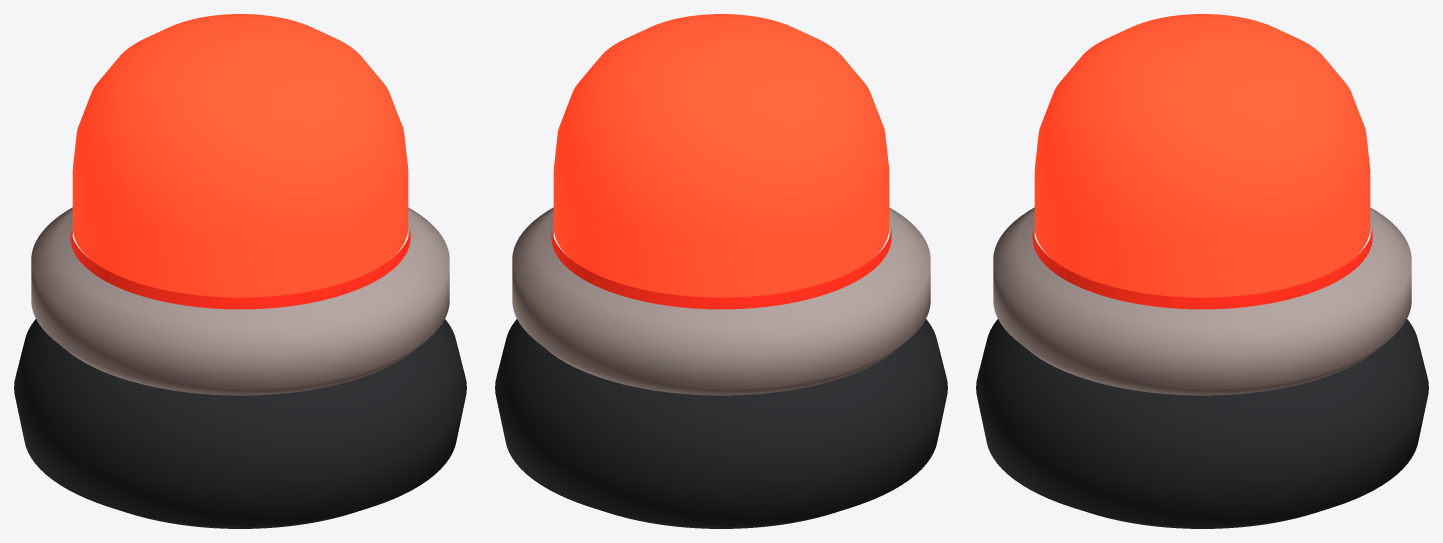
File: BigRedButtonGlowLevel06.glb
The picture shows the model from 3 angles, left to right: view 1: azimuth 30°, elevation 25°; view 2: azimuth 150°, elevation 25°; view 3: azimuth 270°, elevation 25°; orthographic projection.
Parts seen in each view (by area): view 1: button, button_base, metal_bezel, cap_side_shadow; view 2: button, button_base, metal_bezel, cap_side_shadow; view 3: button, button_base, metal_bezel, cap_side_shadow.
Boxes of the visible parts, bbox=[...] form: button: bbox=[72, 14, 408, 297]; button_base: bbox=[14, 319, 466, 528]; metal_bezel: bbox=[31, 207, 449, 395]; cap_side_shadow: bbox=[70, 228, 410, 309]; button: bbox=[553, 14, 889, 297]; button_base: bbox=[495, 319, 947, 528]; metal_bezel: bbox=[512, 207, 930, 395]; cap_side_shadow: bbox=[551, 228, 891, 309]; button: bbox=[1034, 14, 1370, 297]; button_base: bbox=[976, 319, 1428, 528]; metal_bezel: bbox=[993, 207, 1411, 395]; cap_side_shadow: bbox=[1032, 228, 1372, 309].
Bounding box in the file's own units: 0.0185 × 0.0185 × 0.0185.
